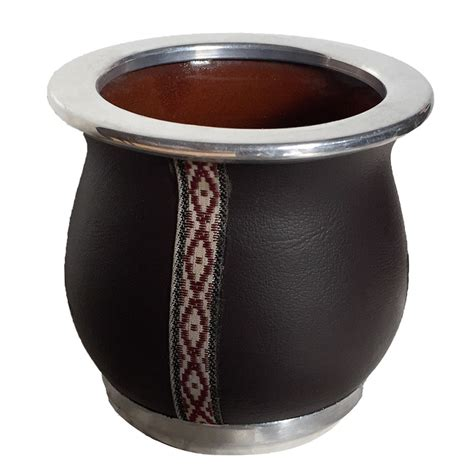cuero: (63, 131, 410, 426)
